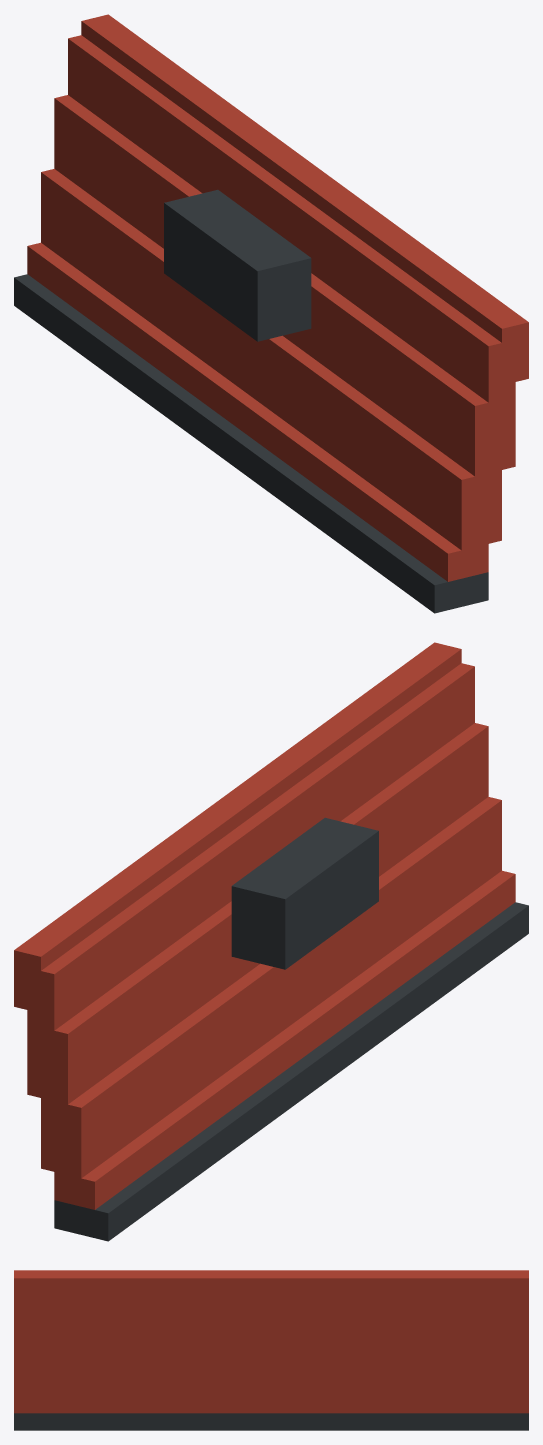
File: trencher_backfill_blade.glb
3 views of the same model, one above another, from view 1: azimuth 30°, elevation 25°; view 2: azimuth 150°, elevation 25°; view 3: azimuth 270°, elevation 25° (orthographic). The views are drawn at different scales.
Parts seen in each view (by area): view 1: body:compound; view 2: body:compound; view 3: body:compound.
Boxes of the visible parts, x1,y1,x2,y2 form: body:compound: (14, 14, 528, 613); body:compound: (14, 642, 528, 1241); body:compound: (14, 1270, 528, 1430).
Bounding box in the file's own units: 0.25 × 0.5938 × 1.69.
